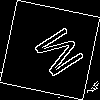M: (25, 25, 86, 85)
